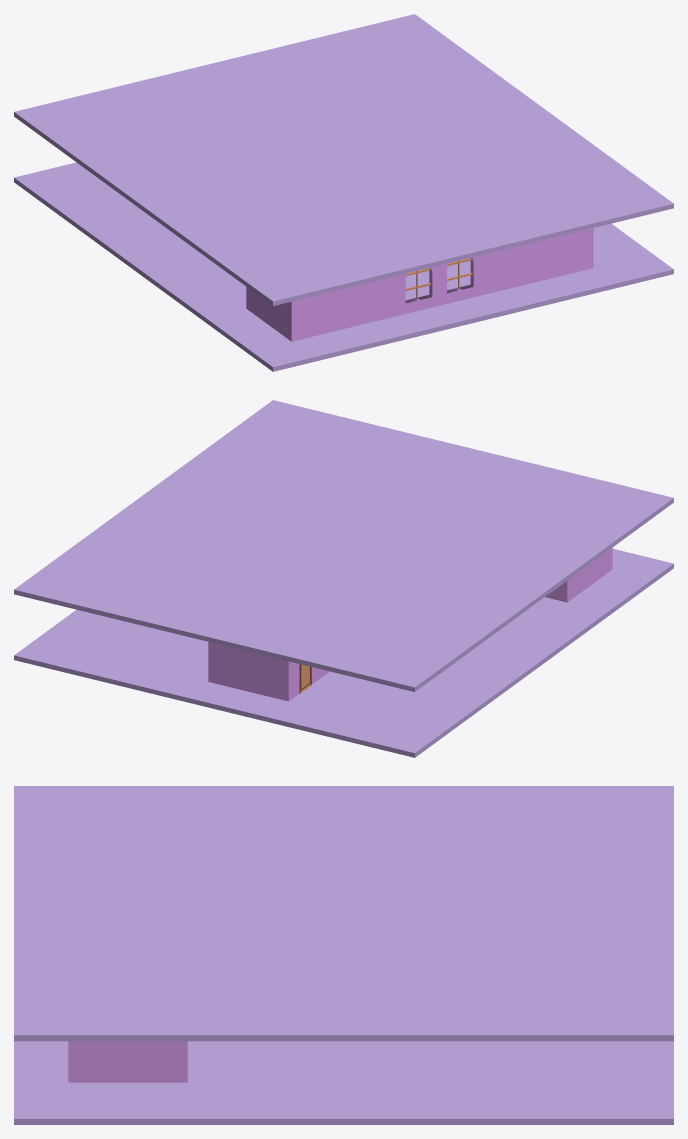
Rendered from hall.fbx.
3 renders of one model, top to bottom at view 1: azimuth 30°, elevation 25°; view 2: azimuth 150°, elevation 25°; view 3: azimuth 270°, elevation 25°, orthographic. The views are drawn at different scales.
Parts seen in each view (by area): view 1: 立方體.008, 立方體.001, 立方體; view 2: 立方體.008, 立方體.001, 立方體; view 3: 立方體.008, 立方體.001, 立方體.
Part boxes in pixels (x1=…): 立方體.008: x1=14, y1=14, x2=673, y2=305; 立方體.001: x1=14, y1=162, x2=673, y2=371; 立方體: x1=246, y1=228, x2=593, y2=341; 立方體.008: x1=14, y1=400, x2=673, y2=691; 立方體.001: x1=14, y1=549, x2=673, y2=757; 立方體: x1=208, y1=547, x2=612, y2=701; 立方體.008: x1=14, y1=786, x2=673, y2=1041; 立方體.001: x1=14, y1=1041, x2=673, y2=1124; 立方體: x1=68, y1=1041, x2=187, y2=1082.
Bounding box in the file's own units: 1920 × 322 × 2148.
